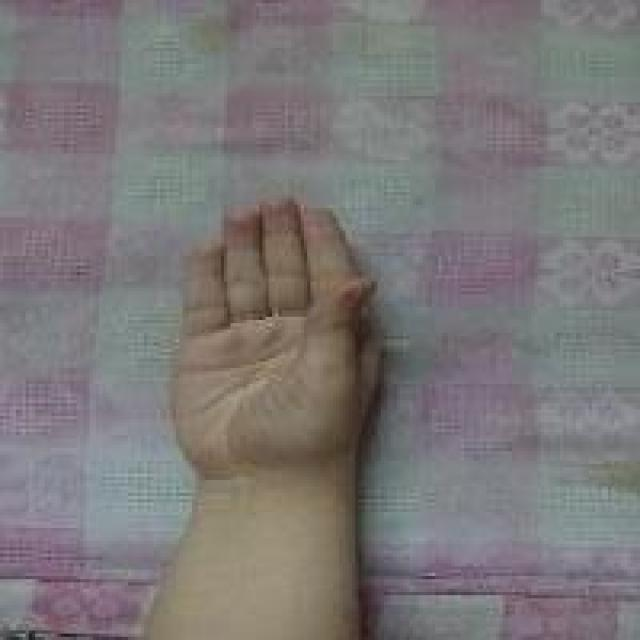B: (166, 186, 384, 490)
